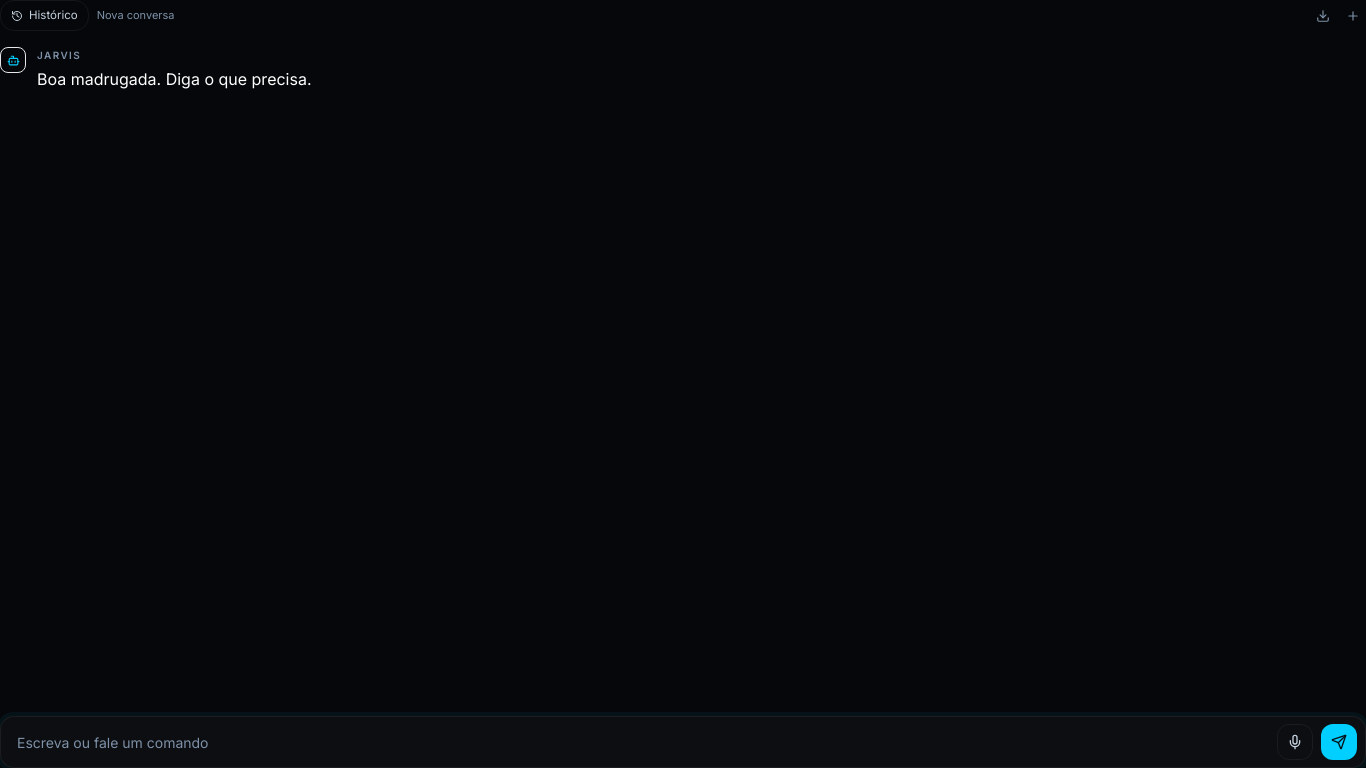
Test: histórico › a memória mostra o que foi guardado, e deixa esquecê-lo
This screenshot has width=1366, height=768.
Type "trata-me por Quadri" into the field named "Comando para o assistente" at {"x": 643, "y": 742}, box [17,732,1269,752]
Then press Enter
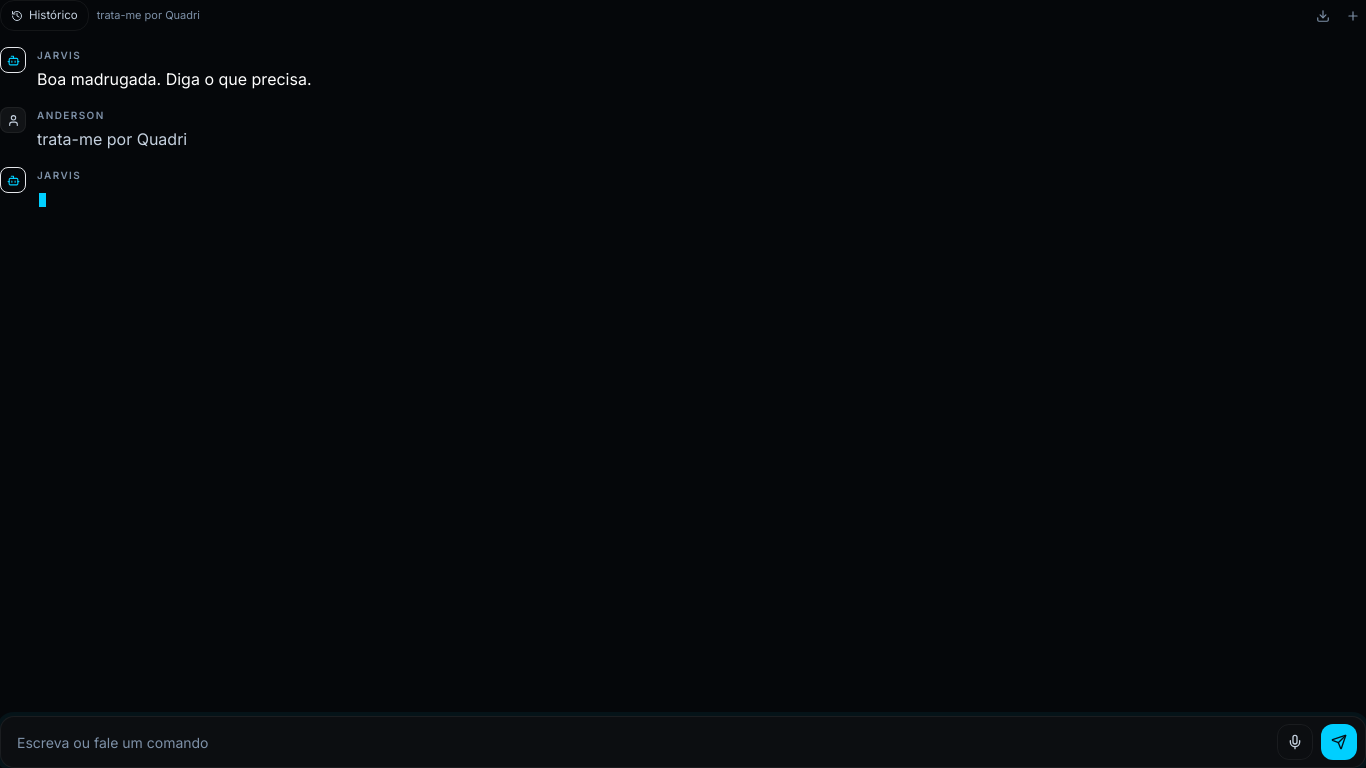
Click the button with aria-label "Histórico de conversas" at {"x": 44, "y": 16}, box [0,0,89,31]
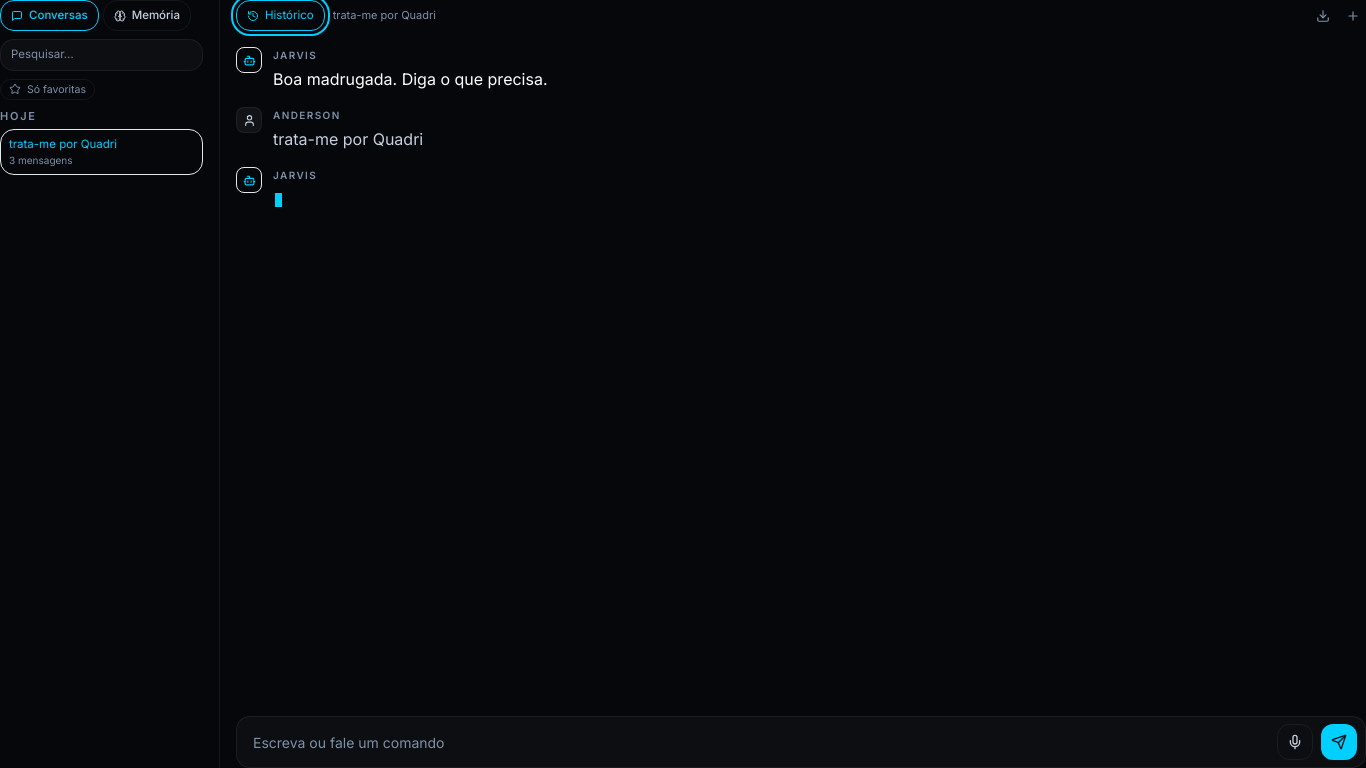
Click the tab "Memória" at {"x": 147, "y": 16}, box [103,0,191,31]
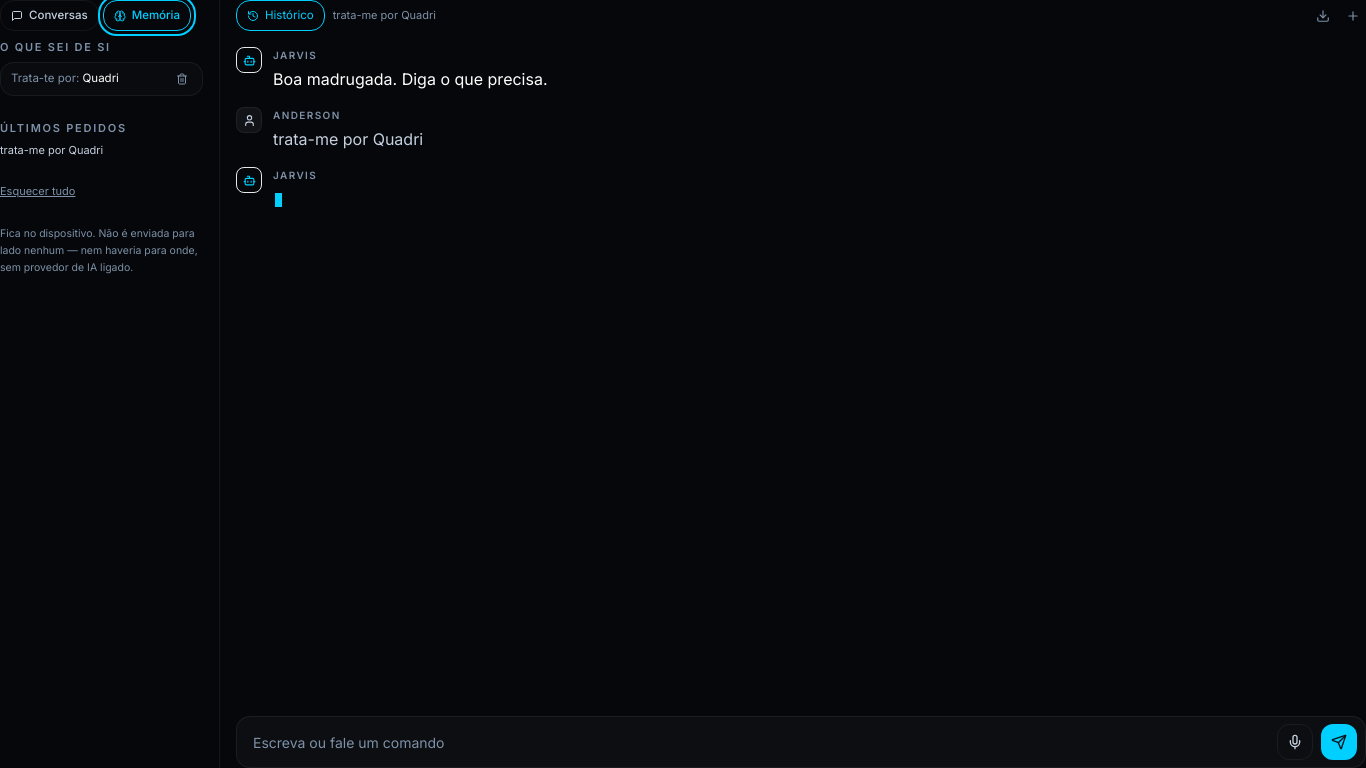
Result: the text "Trata-te por:" is shown at [11,71,82,85]
Result: the text "Trata-te por: Quadri" is shown at [11,71,119,85]
Click the button named "Esquecer nome" at {"x": 182, "y": 79}, box [172,69,192,89]
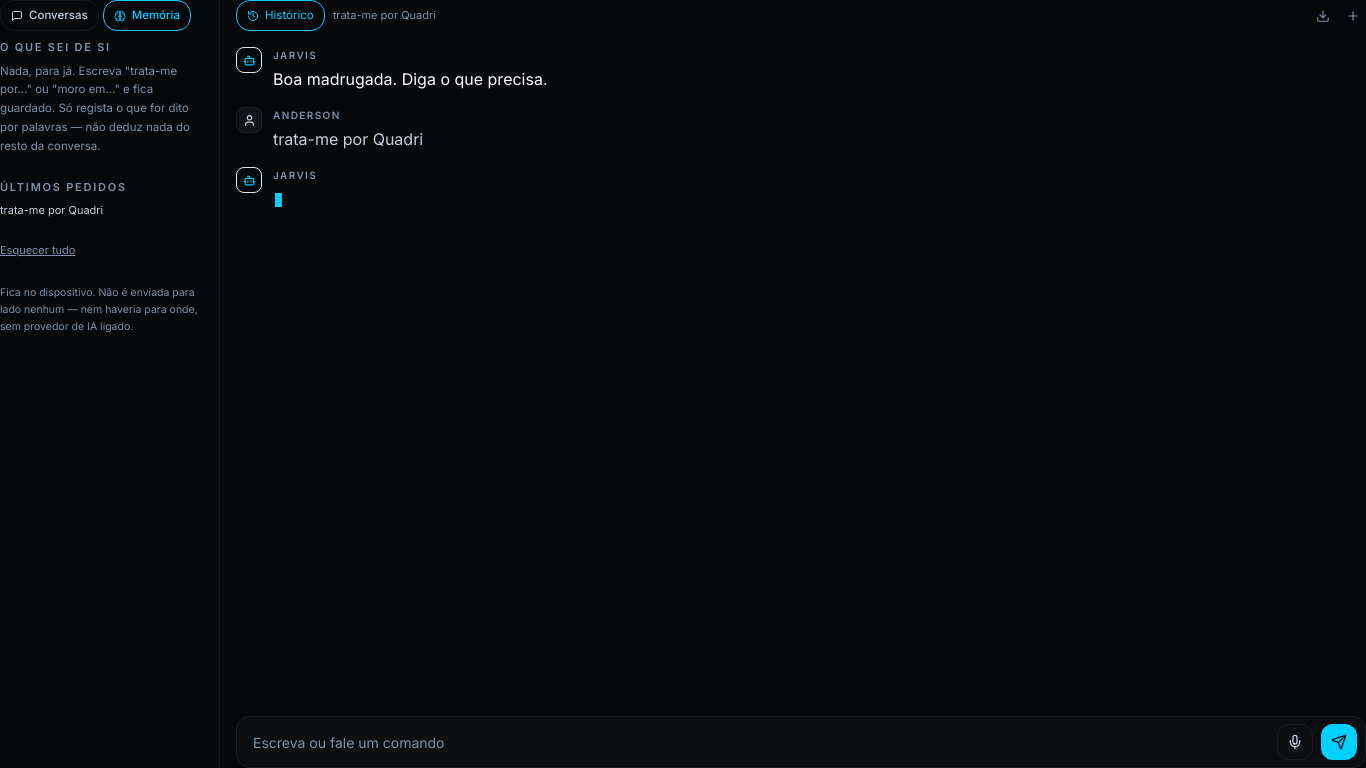
Result: the text "Nada, para já" is shown at [0,64,190,153]
